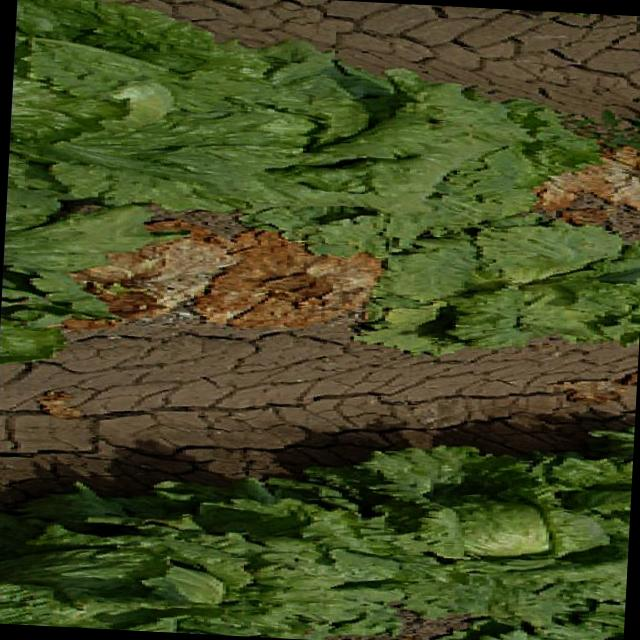Septoria_Blight: (55, 223, 401, 343), (514, 136, 640, 257)
